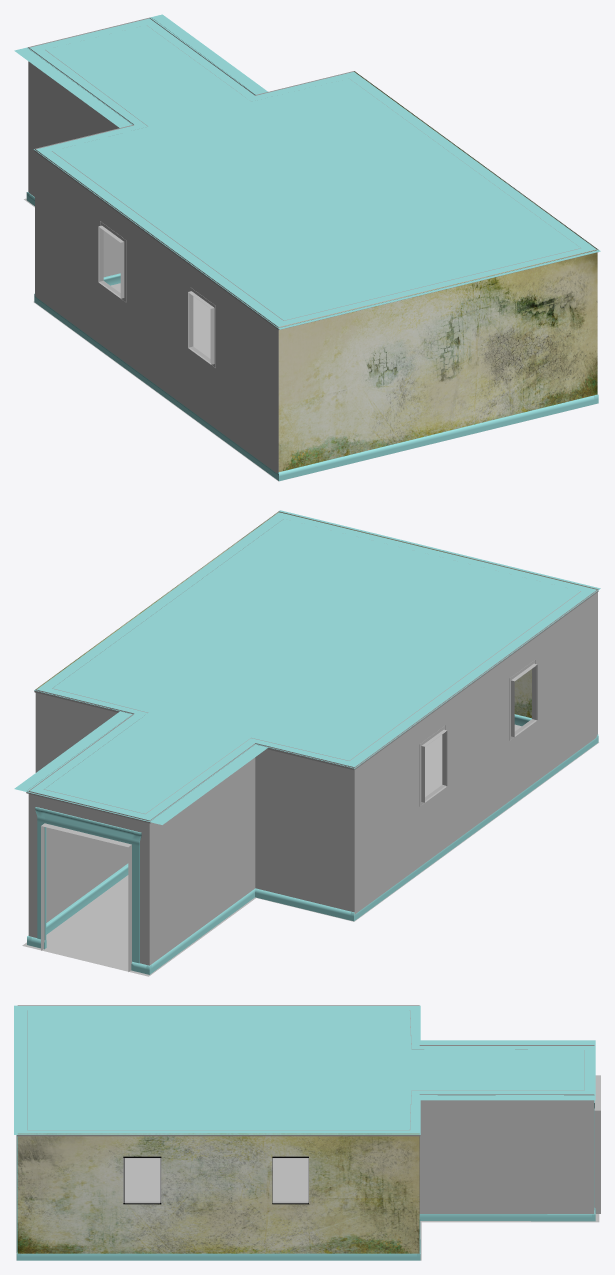
File: Infirmary.fbx
3 renders of one model, top to bottom at view 1: azimuth 30°, elevation 25°; view 2: azimuth 150°, elevation 25°; view 3: azimuth 270°, elevation 25°, orthographic. The views are drawn at different scales.
Parts seen in each view (by area): view 1: ceiling, wall03, wall02, wall01, moulding_floor, moulding_ceiling, floor; view 2: ceiling, wall01, wall02, moulding_floor, floor, moulding_ceiling, wall03; view 3: ceiling, wall04, wall01, moulding_floor, floor, moulding_ceiling, wall02.
Part boxes in pixels (bbox=[...]): ceiling: bbox=[14, 14, 600, 329]; wall03: bbox=[278, 249, 597, 471]; wall02: bbox=[35, 149, 278, 472]; wall01: bbox=[28, 17, 353, 277]; moulding_floor: bbox=[26, 192, 598, 481]; moulding_ceiling: bbox=[29, 18, 598, 329]; floor: bbox=[24, 198, 598, 481]; ceiling: bbox=[14, 510, 600, 824]; wall01: bbox=[28, 689, 354, 971]; wall02: bbox=[354, 589, 597, 914]; moulding_floor: bbox=[27, 714, 598, 974]; floor: bbox=[22, 724, 598, 976]; moulding_ceiling: bbox=[26, 511, 598, 823]; wall03: bbox=[279, 511, 597, 718]; ceiling: bbox=[14, 1005, 595, 1134]; wall04: bbox=[17, 1133, 419, 1253]; wall01: bbox=[419, 1045, 600, 1213]; moulding_floor: bbox=[16, 1100, 595, 1260]; floor: bbox=[16, 1135, 599, 1260]; moulding_ceiling: bbox=[17, 1010, 594, 1136]; wall02: bbox=[17, 1005, 419, 1005].
Size of the model in its own units: 561 by 253 by 1060.
